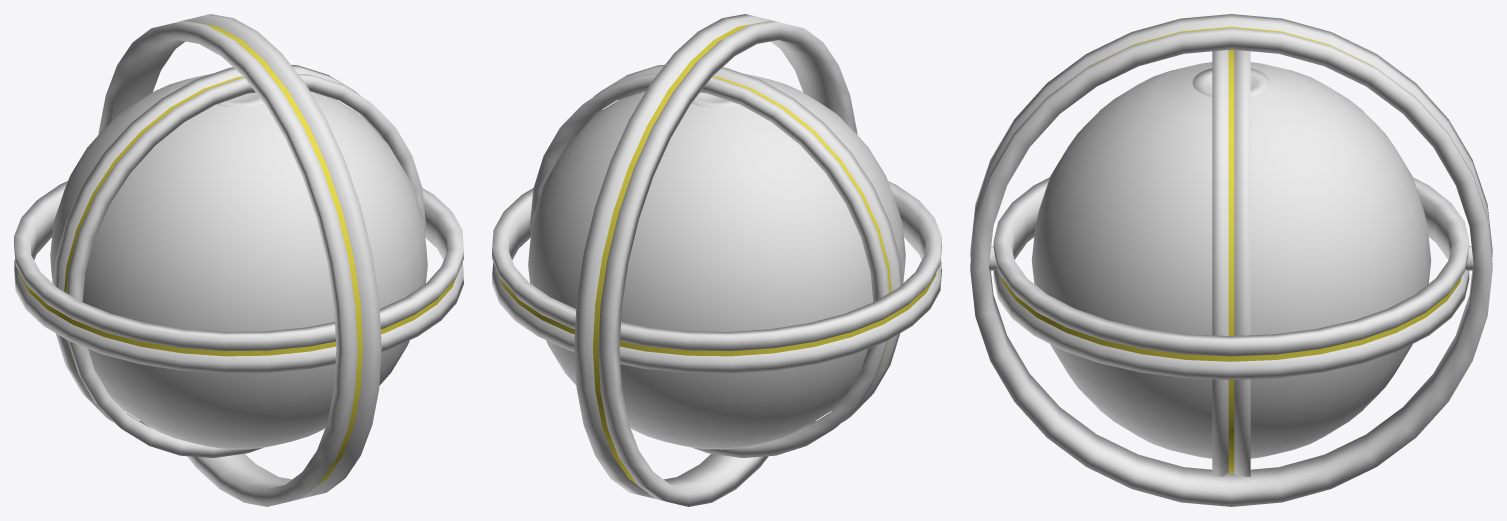
Rendered from Experiment.fbx.
3 views of the same model, side by side, from view 1: azimuth 30°, elevation 25°; view 2: azimuth 150°, elevation 25°; view 3: azimuth 270°, elevation 25° (orthographic). The views are drawn at different scales.
Parts seen in each view (by area): view 1: Experiment, Ring1, Ring2, Ring3; view 2: Experiment, Ring1, Ring2, Ring3; view 3: Experiment, Ring1, Ring2, Ring3, Experiment2.
Boxes of the visible parts, x1=… form: Experiment: x1=50, y1=74, x2=427, y2=449; Ring1: x1=98, y1=14, x2=381, y2=506; Ring2: x1=14, y1=181, x2=463, y2=373; Ring3: x1=53, y1=64, x2=425, y2=457; Experiment: x1=528, y1=74, x2=905, y2=449; Ring1: x1=574, y1=14, x2=857, y2=506; Ring2: x1=492, y1=181, x2=941, y2=373; Ring3: x1=530, y1=64, x2=902, y2=457; Experiment: x1=1031, y1=62, x2=1431, y2=458; Ring1: x1=970, y1=14, x2=1492, y2=506; Ring2: x1=993, y1=177, x2=1469, y2=379; Ring3: x1=1212, y1=49, x2=1250, y2=476; Experiment2: x1=1192, y1=68, x2=1270, y2=96.
Size of the model in its own units: 4.68 by 5.14 by 5.14.
